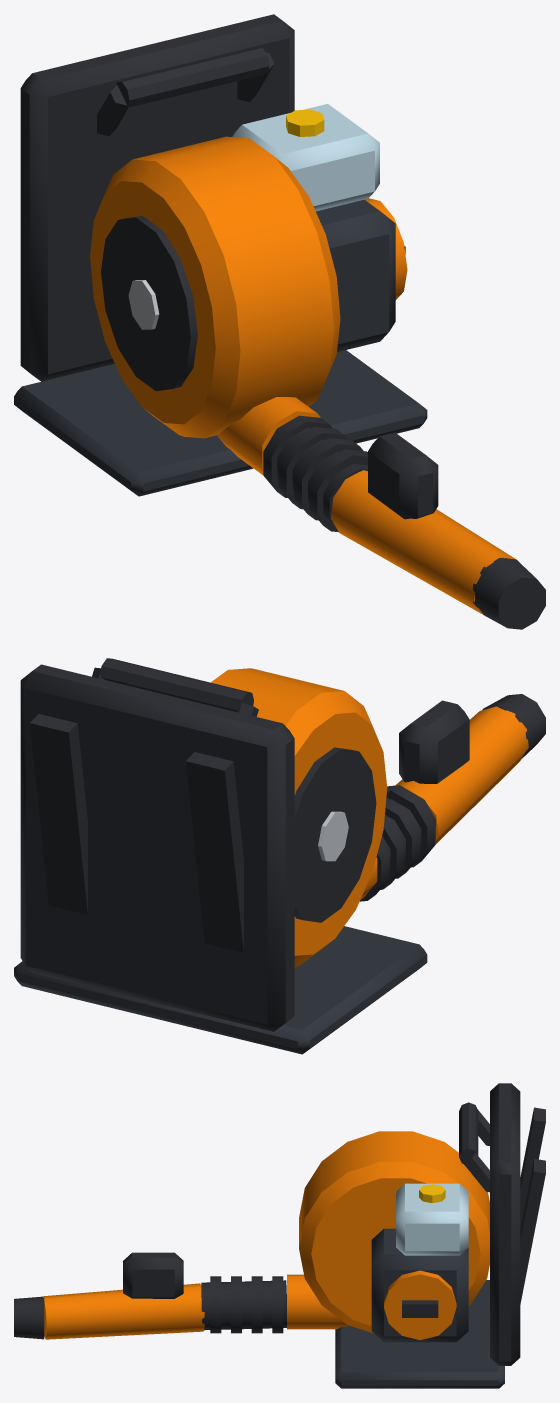
The model's file is leaf_blower.glb.
3 views of the same model, one above another, from view 1: azimuth 30°, elevation 25°; view 2: azimuth 150°, elevation 25°; view 3: azimuth 270°, elevation 25° (orthographic). The views are drawn at different scales.
Parts seen in each view (by area): view 1: body; view 2: body; view 3: body.
Boxes of the visible parts, x1=… form: body: x1=14, y1=14, x2=545, y2=629; body: x1=14, y1=658, x2=545, y2=1054; body: x1=14, y1=1083, x2=545, y2=1388.
Size of the model in its own units: 41 by 40 by 87.74.
